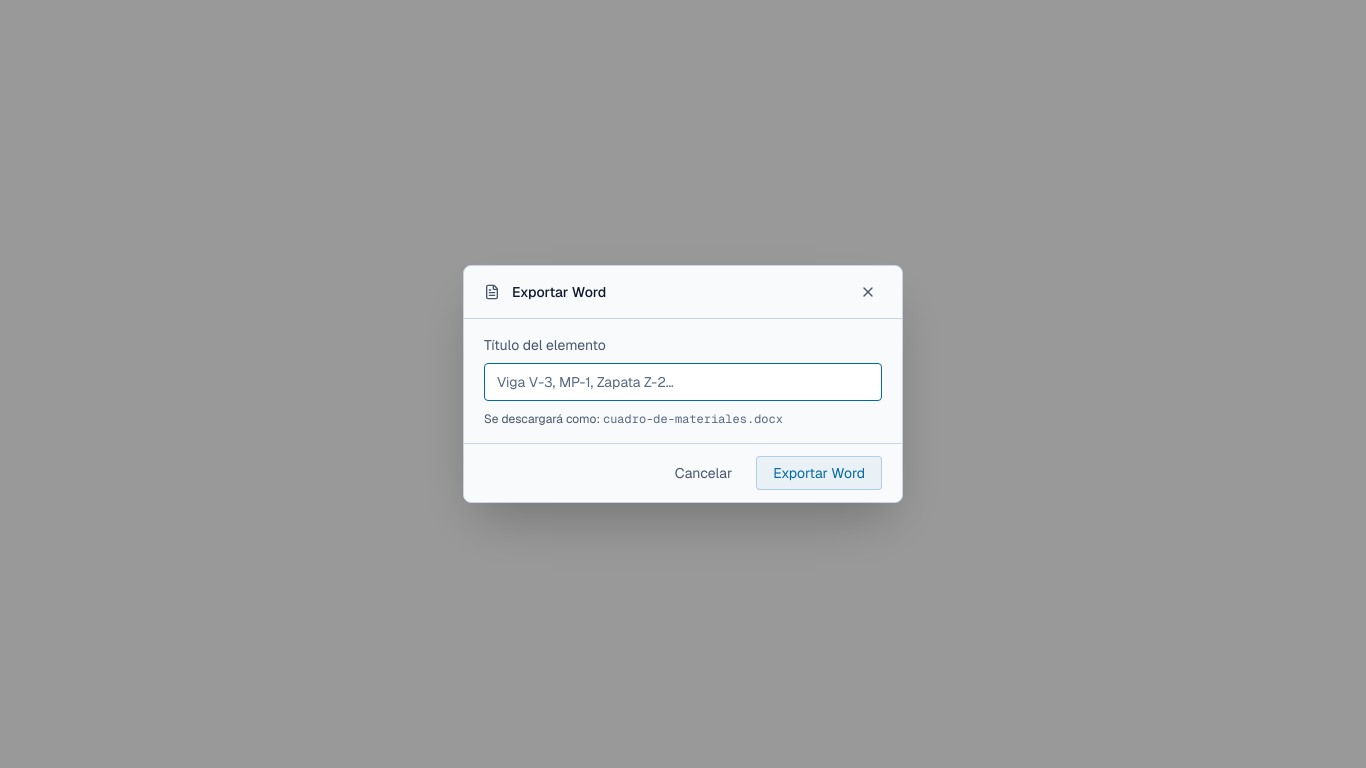
Test: TitlePromptModal › con formatLabel/extension el modal habla y promete el formato pedido
Type "Nave taller" into the field labelled "Título del elemento". click: (683, 382)
box: [484,363,882,401]
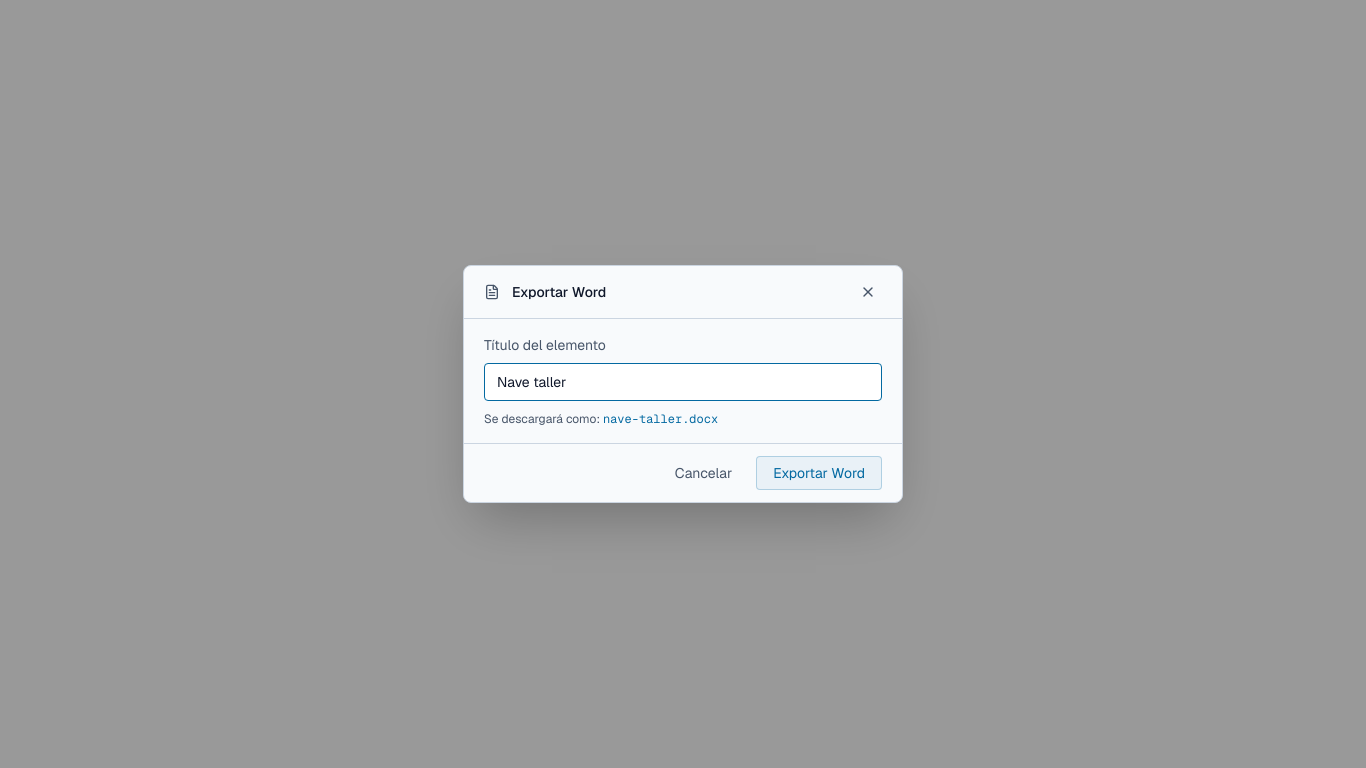
Expected: the button "Exportar Word" is shown, [756,456,882,490]
Expected: the text "nave-taller.docx" is shown, [603,411,718,427]
